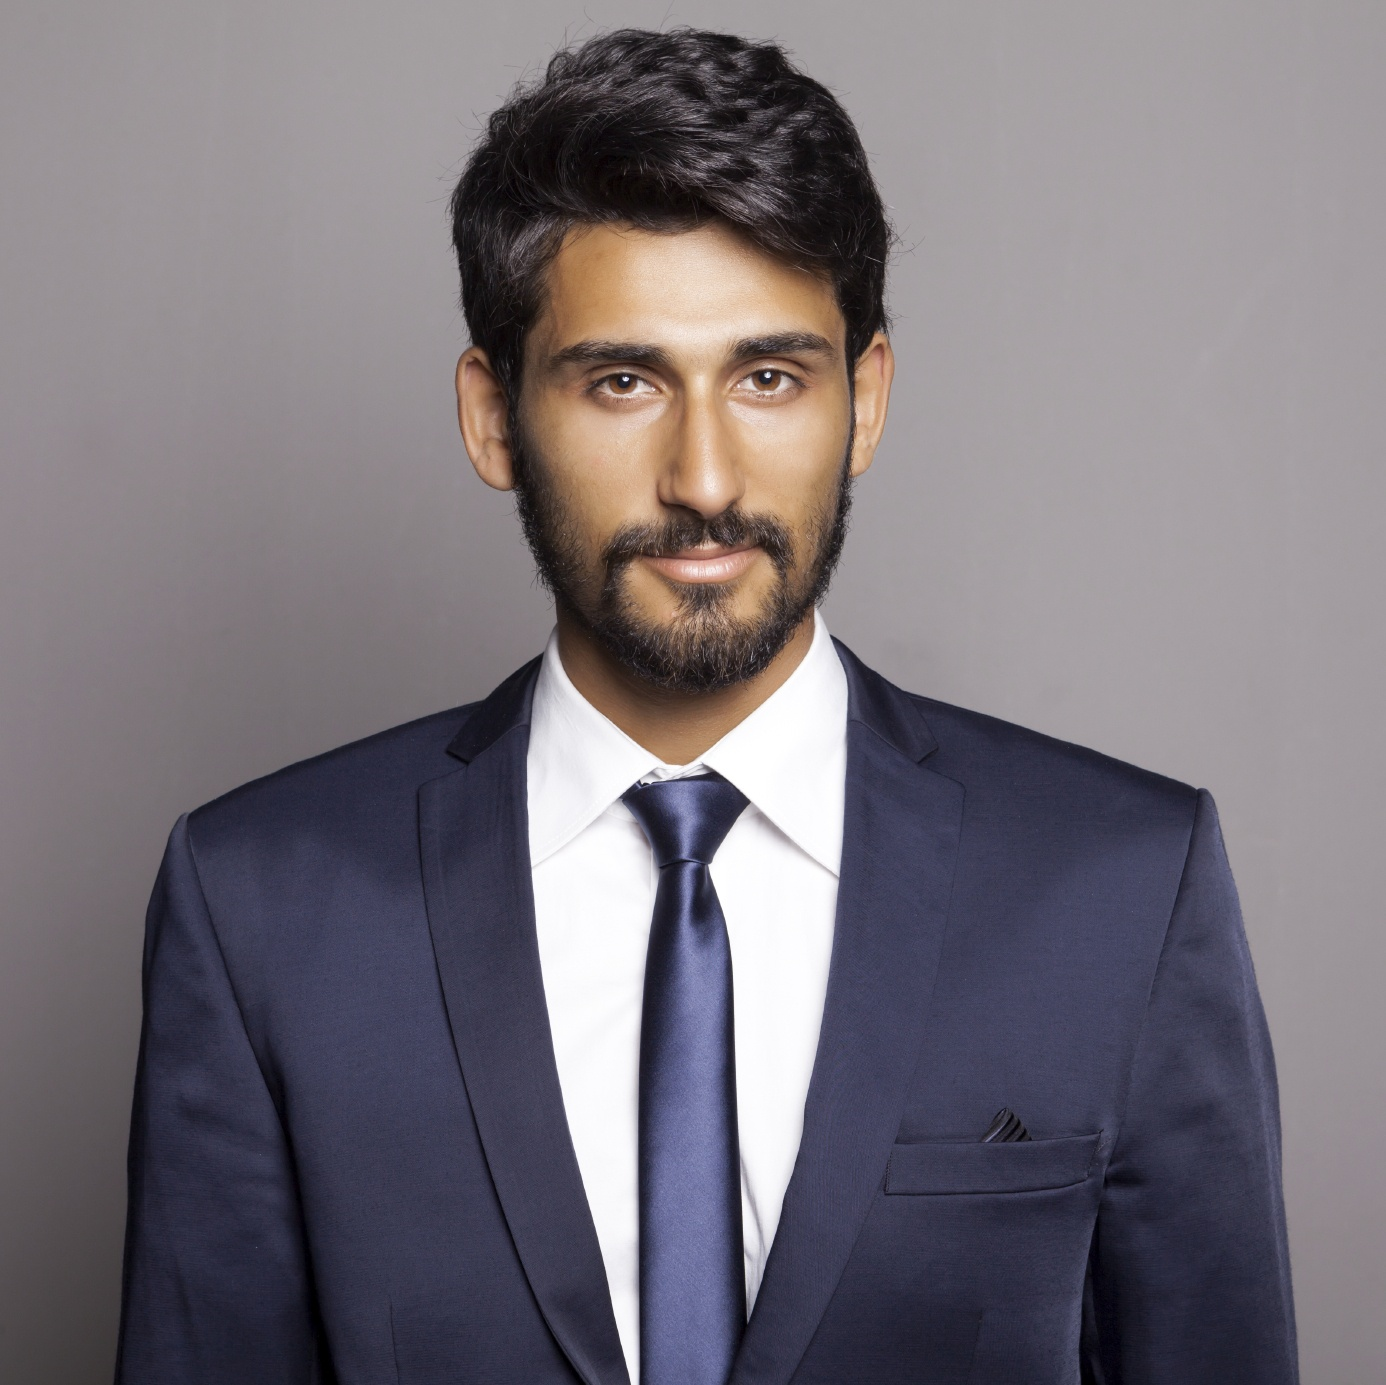no_mask: (518, 476, 846, 692)
